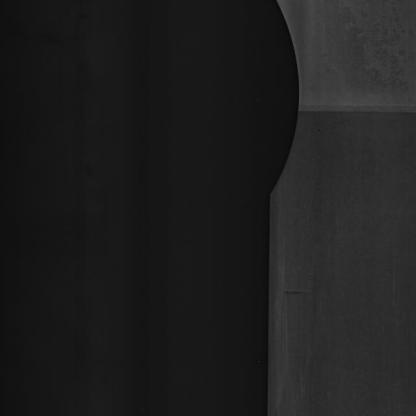crescent_gap: (240, 0, 314, 207)
welding_line: (288, 92, 416, 130)
